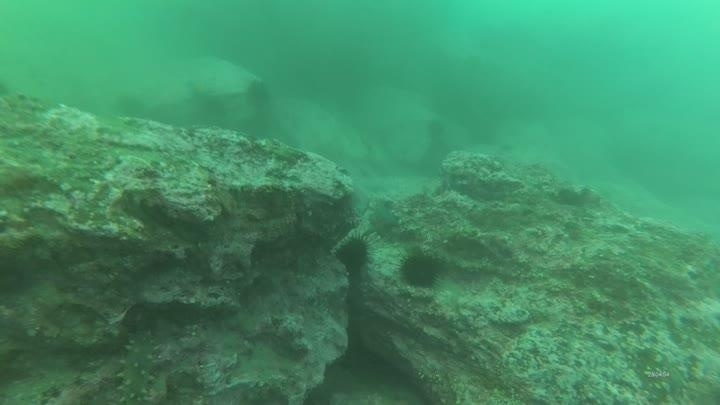echinus: (397, 248, 445, 291), (334, 233, 374, 276), (243, 77, 274, 112), (429, 117, 451, 140)
holothurian: (113, 324, 163, 403)
starfish: (366, 199, 401, 238)
